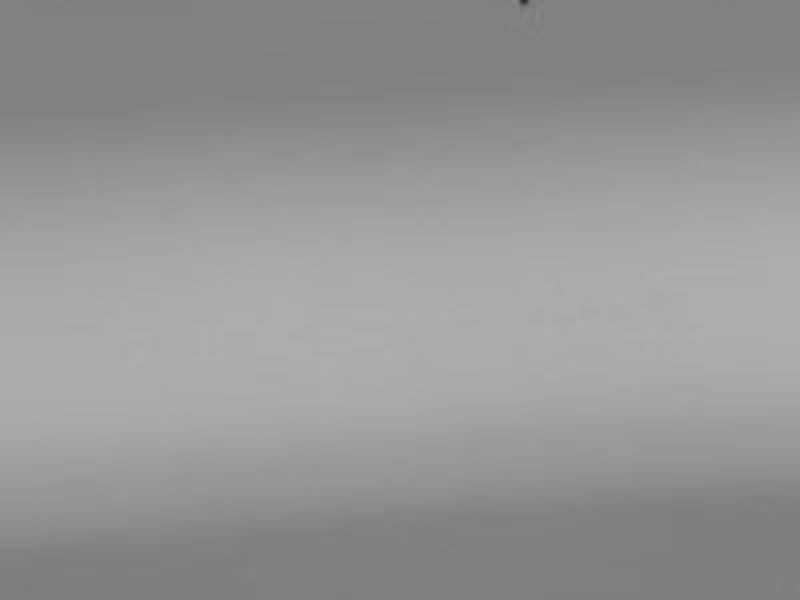defect: (513, 1, 534, 10)
